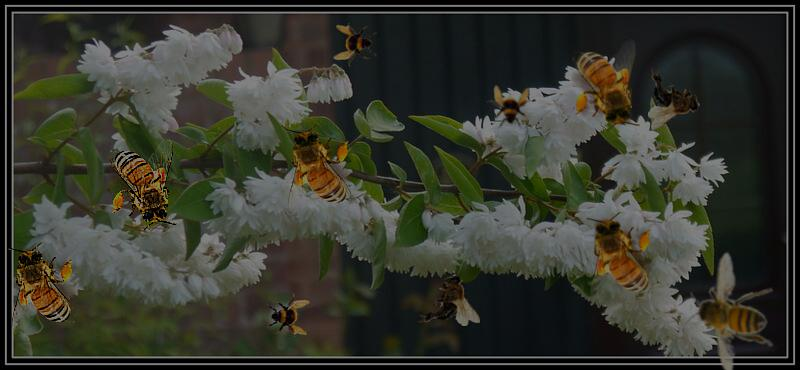Bee: (664, 240, 799, 370), (586, 212, 654, 305), (284, 123, 352, 216), (8, 242, 76, 335), (109, 138, 177, 231), (572, 39, 640, 132), (648, 68, 701, 130), (418, 273, 480, 326), (487, 85, 531, 129), (266, 293, 310, 337), (333, 23, 377, 67)
